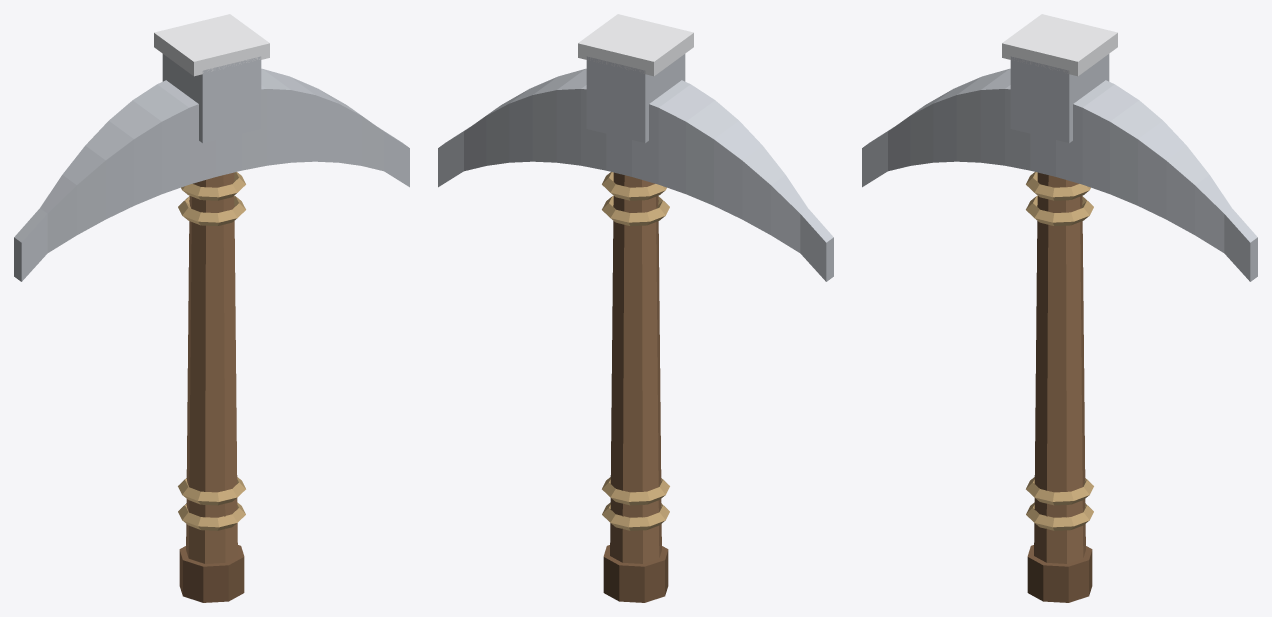
File: pickaxe-DaOgVb3J.glb
The picture shows the model from 3 angles, left to right: view 1: azimuth 30°, elevation 25°; view 2: azimuth 150°, elevation 25°; view 3: azimuth 330°, elevation 25°; orthographic projection.
Visible parts, largest first — view 1: Pickaxe; view 2: Pickaxe; view 3: Pickaxe.
Boxes of the visible parts, left/top/right/bottom form: Pickaxe: left=14, top=14, right=409, bottom=602; Pickaxe: left=438, top=14, right=833, bottom=602; Pickaxe: left=862, top=14, right=1257, bottom=602.
Bounding box in the file's own units: 0.56 × 0.76 × 0.1.
